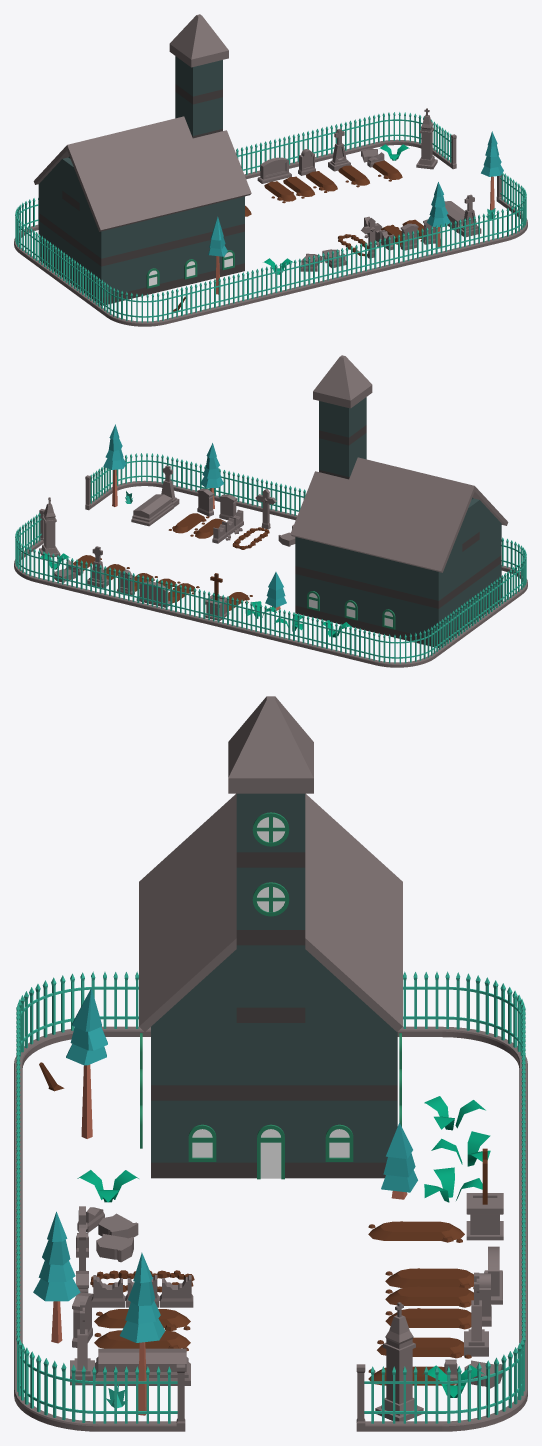
Rendered from church.fbx.
3 renders of one model, top to bottom at view 1: azimuth 30°, elevation 25°; view 2: azimuth 150°, elevation 25°; view 3: azimuth 270°, elevation 25°, orthographic. The views are drawn at different scales.
Visible parts, largest first — view 1: mergedBlocks; view 2: mergedBlocks; view 3: mergedBlocks.
Boxes of the visible parts, x1,y1,x2,y2 form: mergedBlocks: (14, 14, 527, 326); mergedBlocks: (14, 355, 527, 667); mergedBlocks: (14, 696, 527, 1431).
Size of the model in its own units: 110 by 60.08 by 60.
